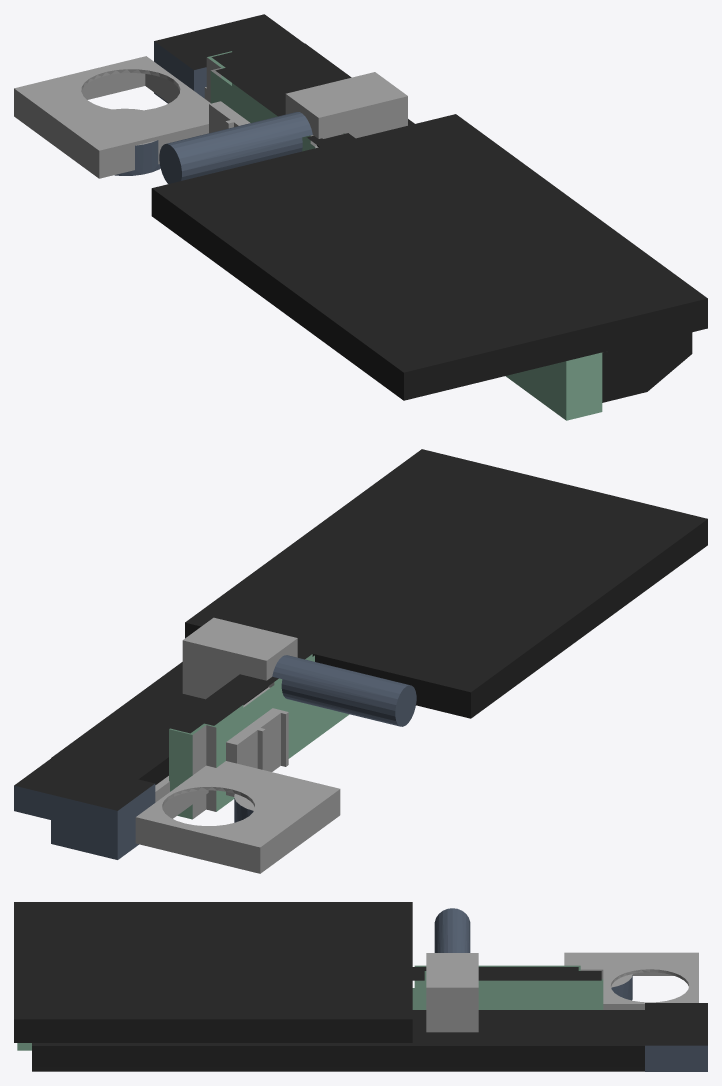
The model's file is iswap_column.glb.
3 renders of one model, top to bottom at view 1: azimuth 30°, elevation 25°; view 2: azimuth 150°, elevation 25°; view 3: azimuth 270°, elevation 25°, orthographic. The views are drawn at different scales.
Parts seen in each view (by area): view 1: ISwap.001; view 2: ISwap.001; view 3: ISwap.001.
Part boxes in pixels (left/top/right/bottom): ISwap.001: left=14, top=14, right=707, bottom=420; ISwap.001: left=14, top=449, right=707, bottom=873; ISwap.001: left=14, top=902, right=707, bottom=1071.
Size of the model in its own units: 0.17 by 0.0593 by 0.4246.
